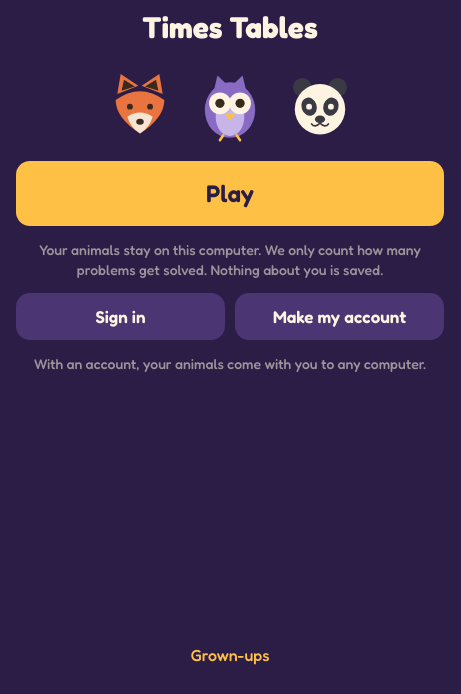
Scenario: kid accounts › say so when kid sign-in isn't switched on in Supabase
Click the button "Make my account" at [340, 317], box [235,293,444,340]
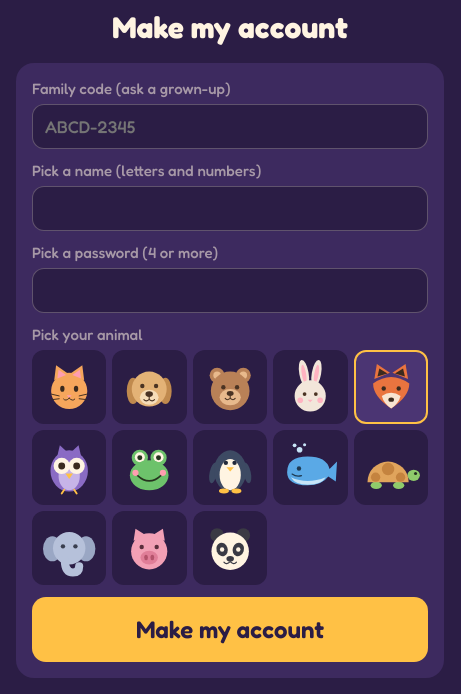
Type "RAND-4821" into the field labelled "Family code (ask a grown-up)" at [230, 126], box [32,104,428,149]
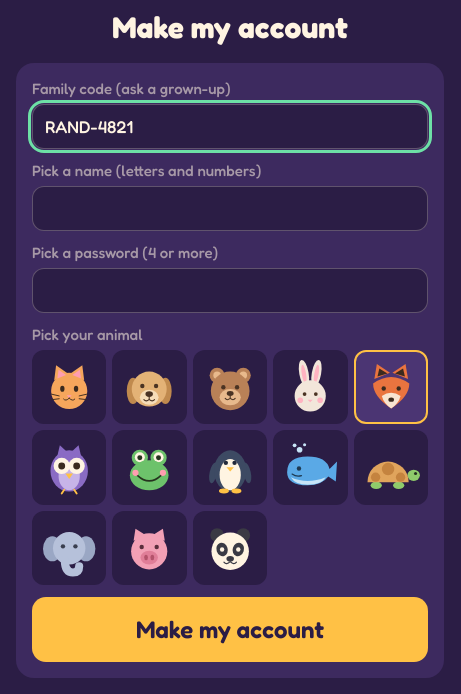
Type "leo" into the field labelled "Pick a name (letters and numbers)" at [230, 208], box [32,186,428,231]
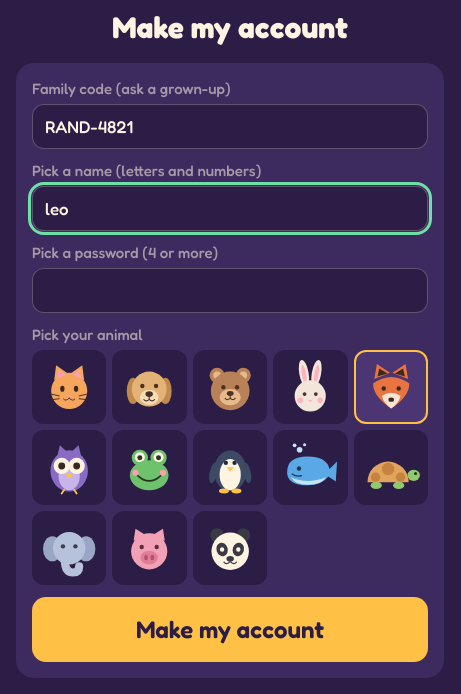
Type "tiger" into the password field labelled "Pick a password (4 or more)" at [230, 290], box [32,268,428,313]
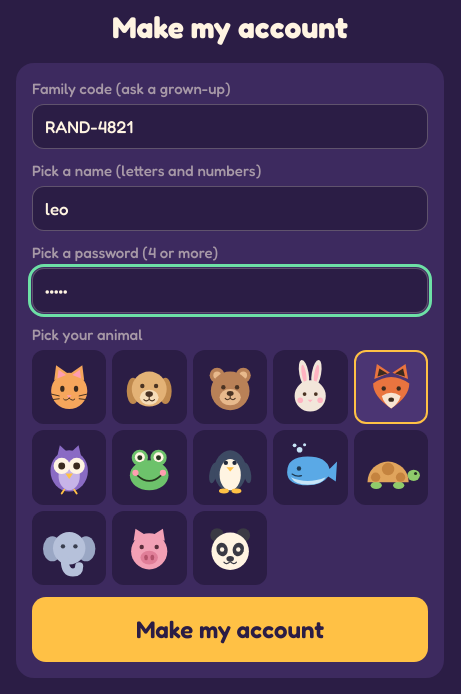
Click the button "Make my account" at [230, 630], box [32,597,428,662]
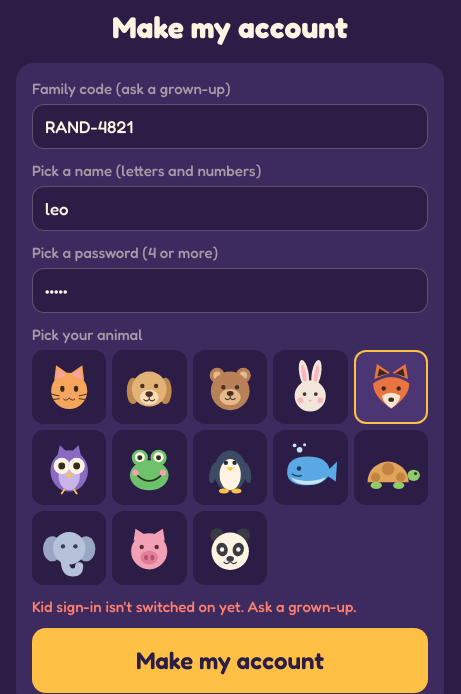
Result: the text "Kid sign-in isn't switched on yet. Ask a grown-up." is shown at [32,597,356,616]
